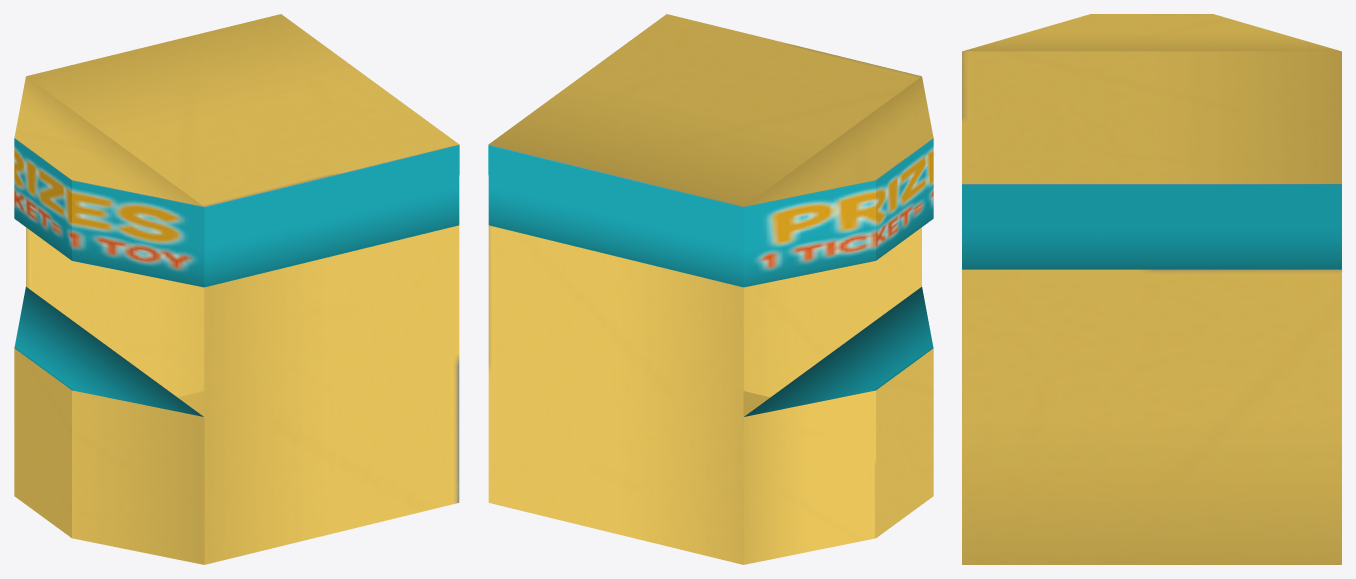
The picture shows the model from 3 angles, left to right: view 1: azimuth 30°, elevation 25°; view 2: azimuth 150°, elevation 25°; view 3: azimuth 270°, elevation 25°; orthographic projection. The views are drawn at different scales.
Visible parts, largest first — view 1: Box01; view 2: Box01; view 3: Box01.
Part boxes in pixels (x1=…): Box01: x1=14, y1=14, x2=459, y2=564; Box01: x1=488, y1=14, x2=933, y2=564; Box01: x1=962, y1=14, x2=1341, y2=564.
Size of the model in its own units: 421 by 440 by 397.
Materials: 2 (2 with a texture image).
